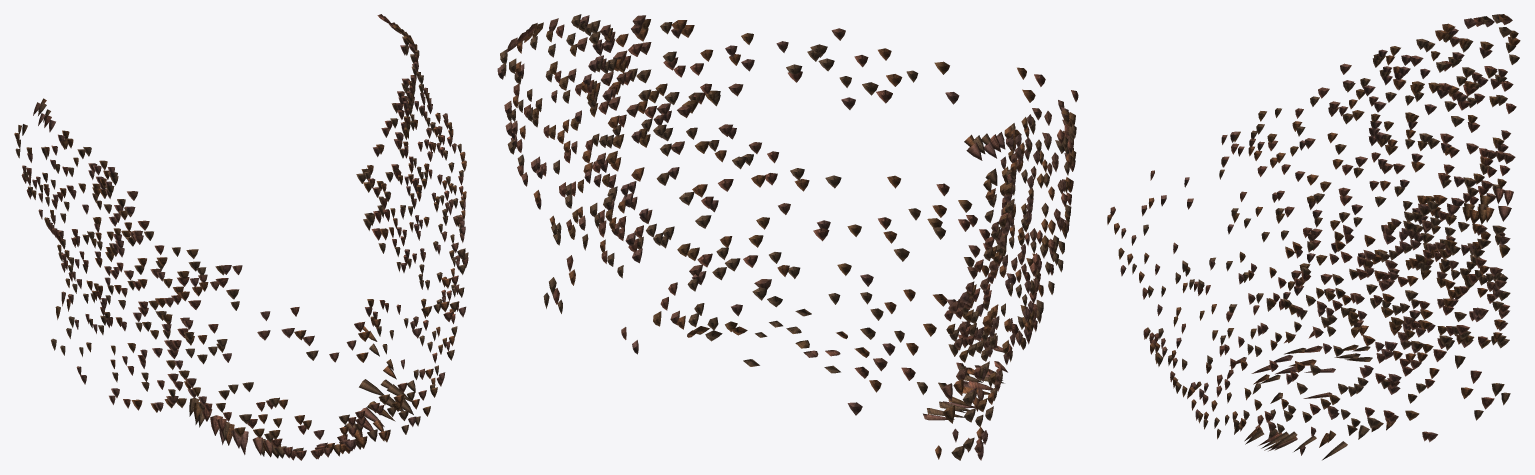
The model's file is por_fazer.glb.
The picture shows the model from 3 angles, left to right: view 1: azimuth 30°, elevation 25°; view 2: azimuth 150°, elevation 25°; view 3: azimuth 270°, elevation 25°; orthographic projection. The views are drawn at different scales.
Visible parts, largest first — view 1: barba_por_fazer; view 2: barba_por_fazer; view 3: barba_por_fazer.
Boxes of the visible parts, <box> form: barba_por_fazer: <box>14,14,468,460</box>; barba_por_fazer: <box>497,14,1078,460</box>; barba_por_fazer: <box>1107,14,1520,460</box>.
Size of the model in its own units: 0.1908 by 0.1551 by 0.1668.
1 material, 1 textured.
